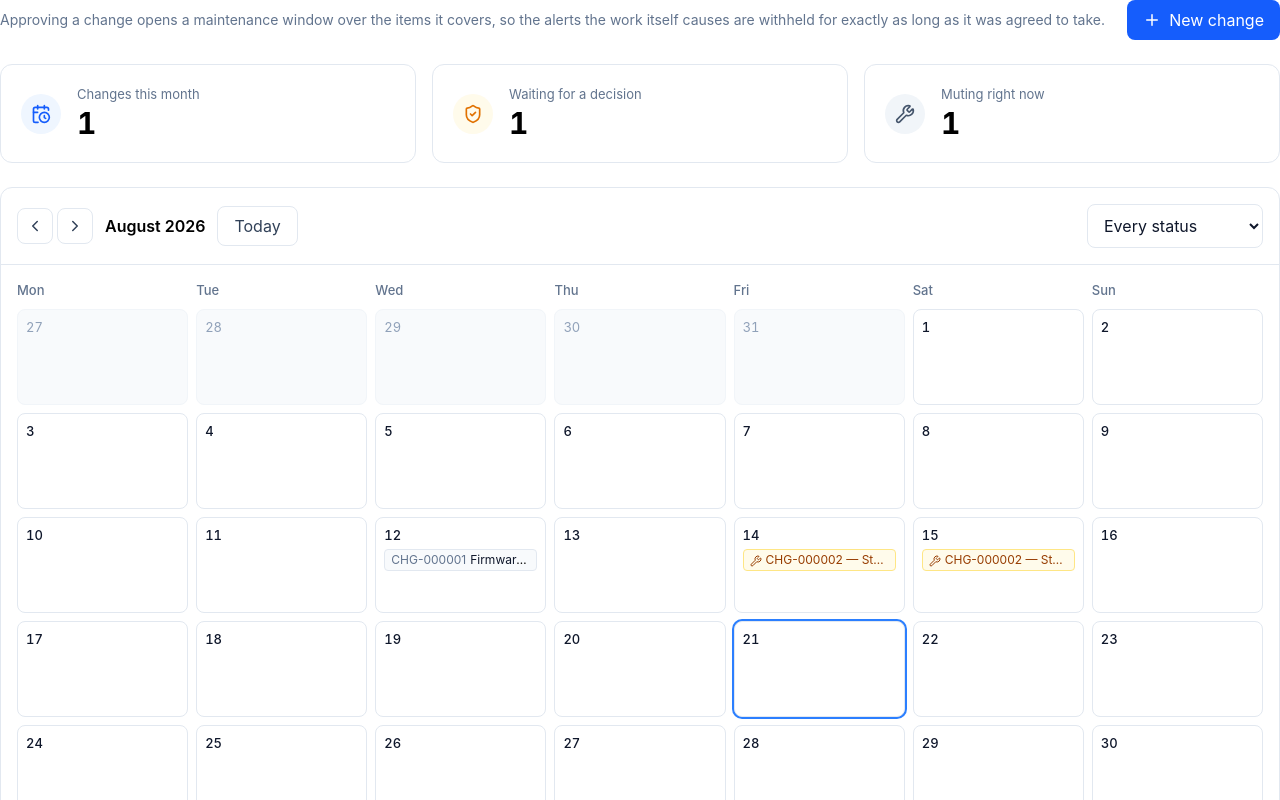
Test: a rejected slot shows the server’s reason under the end field
Expected: the link titled "CHG-000001" is shown, [384, 549, 537, 571]
Click the button "New change".
click(1204, 20)  # box [1127, 0, 1279, 40]
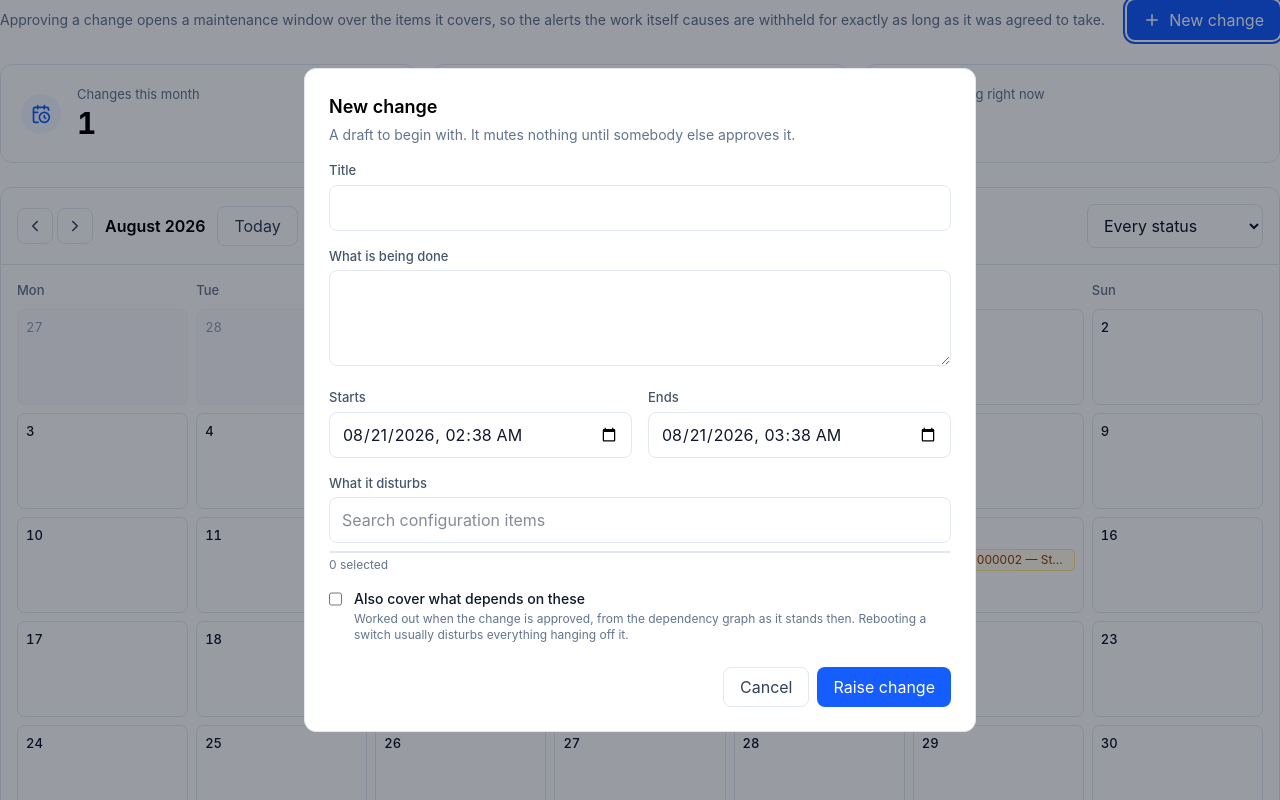
Click the button "Raise change".
click(884, 687)  # box [818, 667, 951, 707]
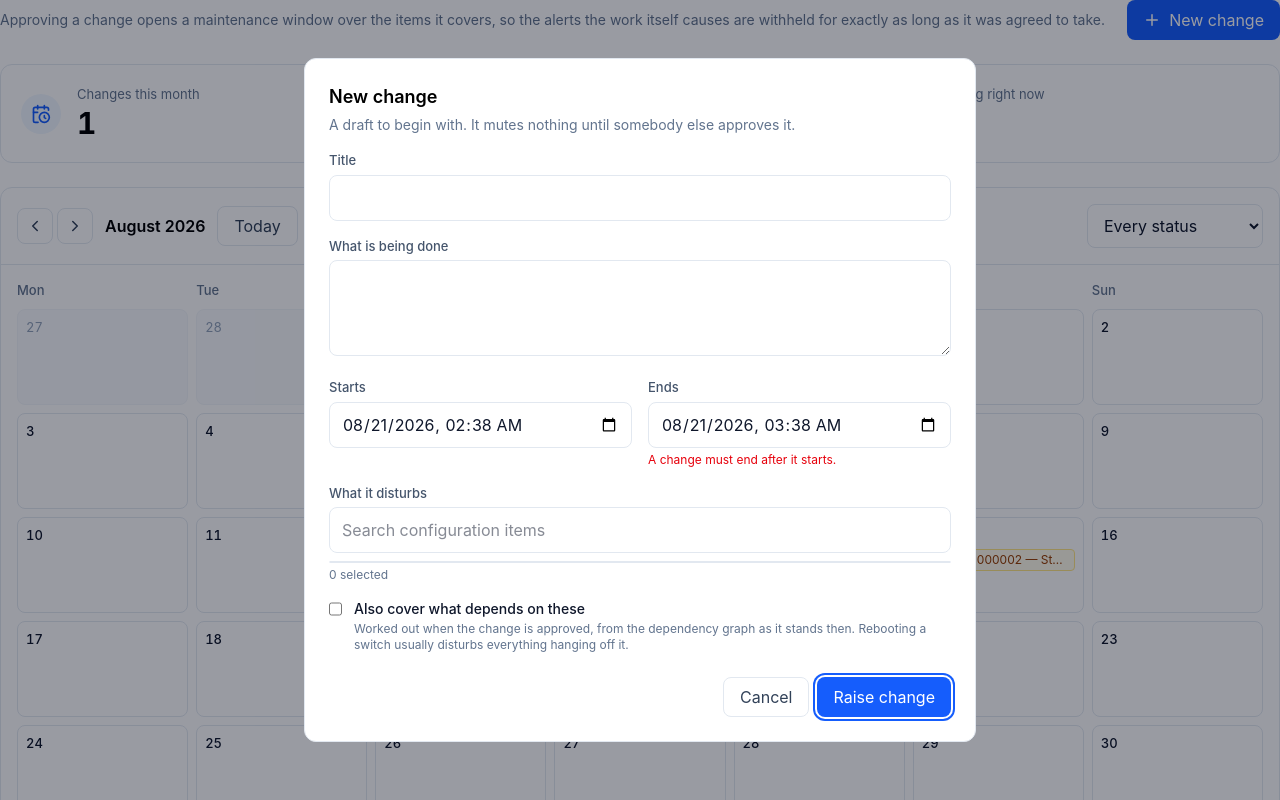
Result: the text "A change must end after it starts." is shown at [648, 452, 836, 466]
